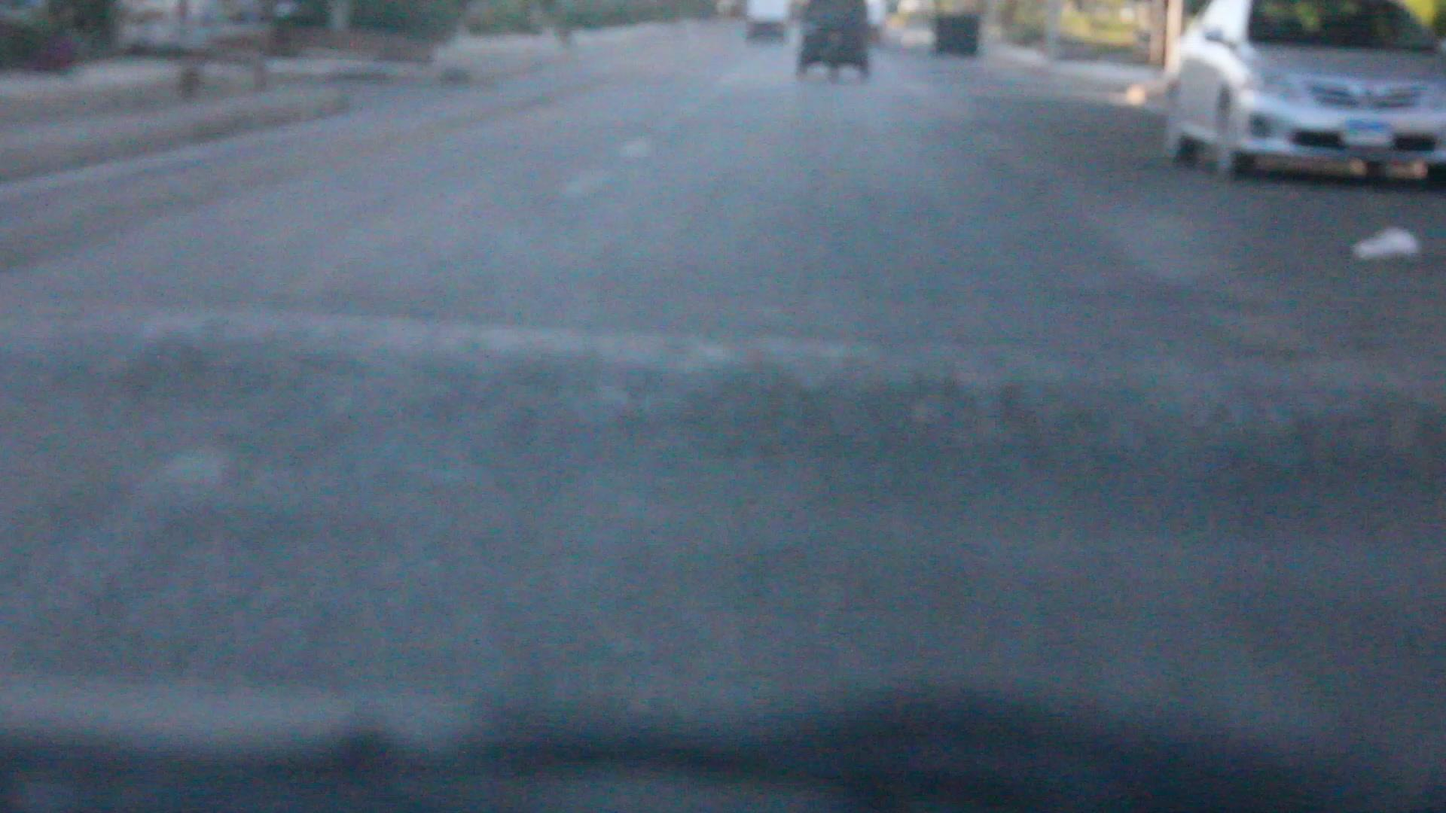Bump: (9, 311, 1445, 506)
